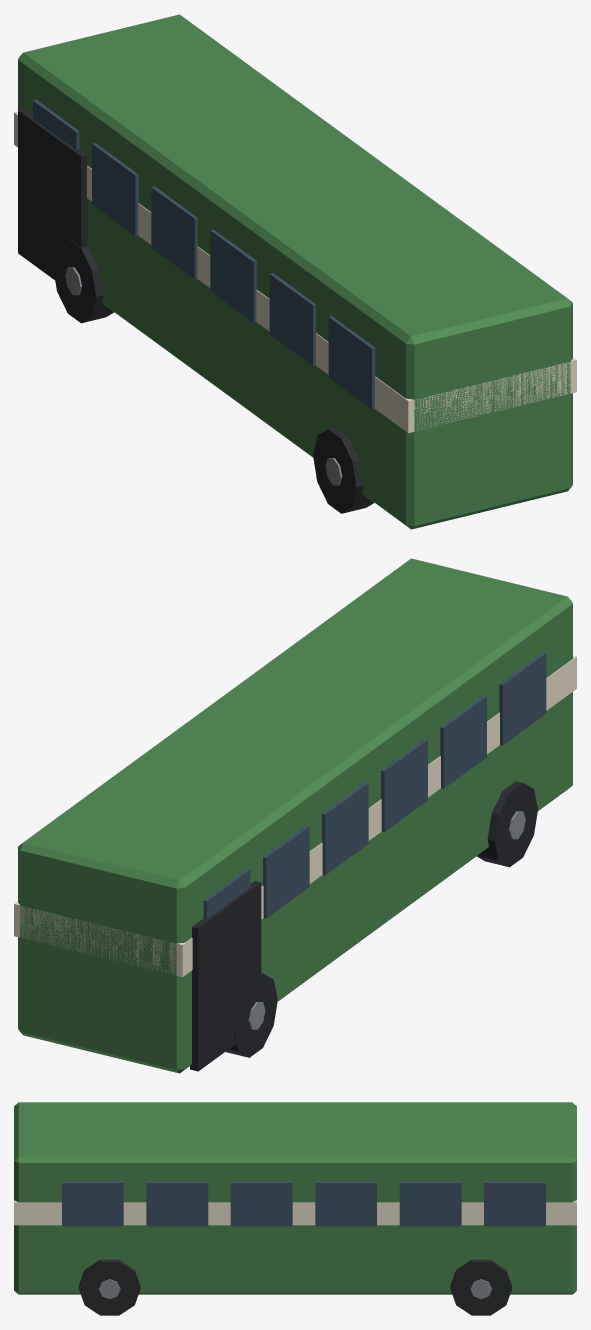
File: vehicle.bus.glb
3 views of the same model, one above another, from view 1: azimuth 30°, elevation 25°; view 2: azimuth 150°, elevation 25°; view 3: azimuth 270°, elevation 25° (orthographic). The views are drawn at different scales.
Parts seen in each view (by area): view 1: vehicle.bus; view 2: vehicle.bus; view 3: vehicle.bus.
Boxes of the visible parts, bbox=[...] form: vehicle.bus: bbox=[14, 14, 576, 529]; vehicle.bus: bbox=[14, 558, 576, 1073]; vehicle.bus: bbox=[14, 1102, 576, 1315].
Size of the model in its own units: 2.71 by 3.02 by 10.
